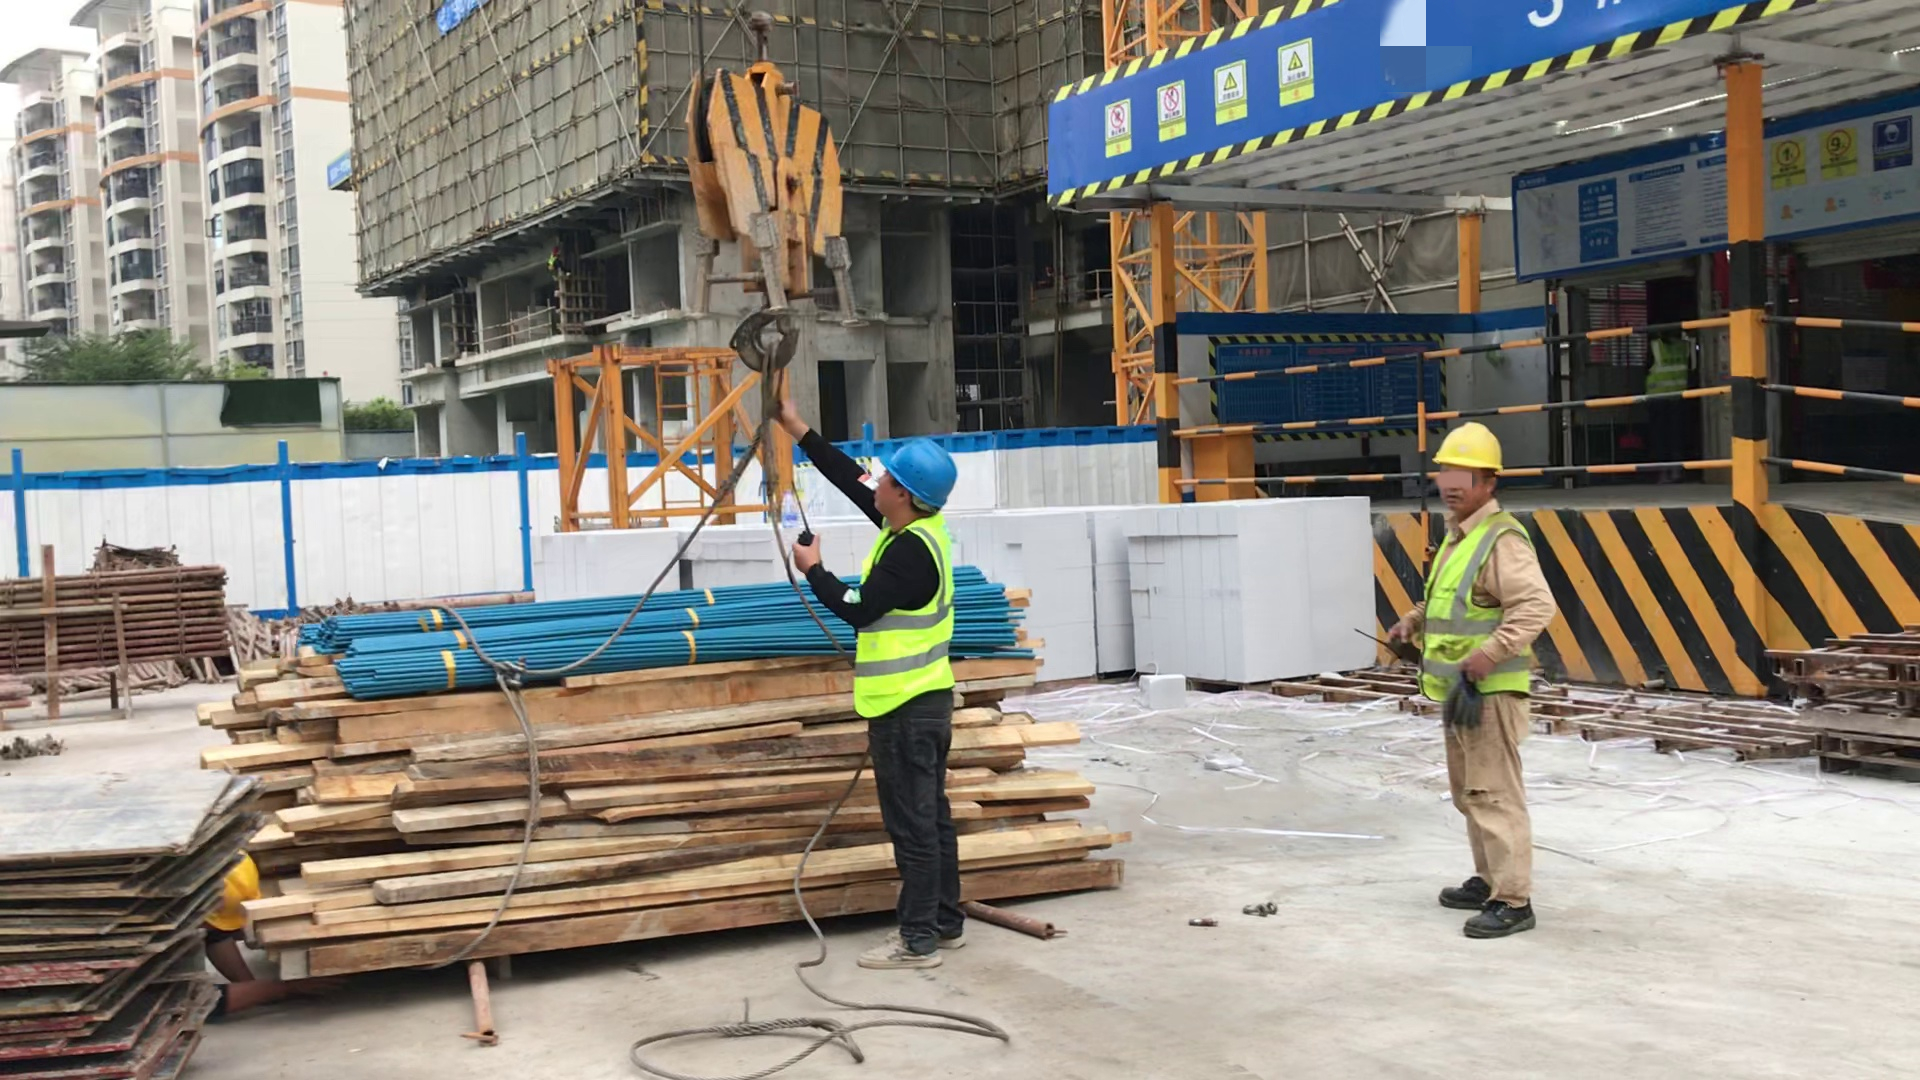board: (1, 823, 189, 1079)
brick: (1130, 480, 1379, 682), (965, 494, 1094, 701), (517, 521, 705, 594), (688, 522, 875, 587)
helmet: (878, 427, 960, 512), (203, 850, 266, 937), (1422, 412, 1510, 474)
hook: (682, 23, 883, 361)
person: (760, 364, 1021, 967), (1399, 405, 1582, 958), (181, 838, 319, 1020), (1629, 308, 1718, 500)
scaffold: (1, 537, 246, 667)
slogan: (1048, 1, 1785, 209), (1513, 100, 1918, 274)
vest: (849, 516, 966, 709), (1414, 512, 1533, 698)
wood: (204, 650, 1159, 971)
